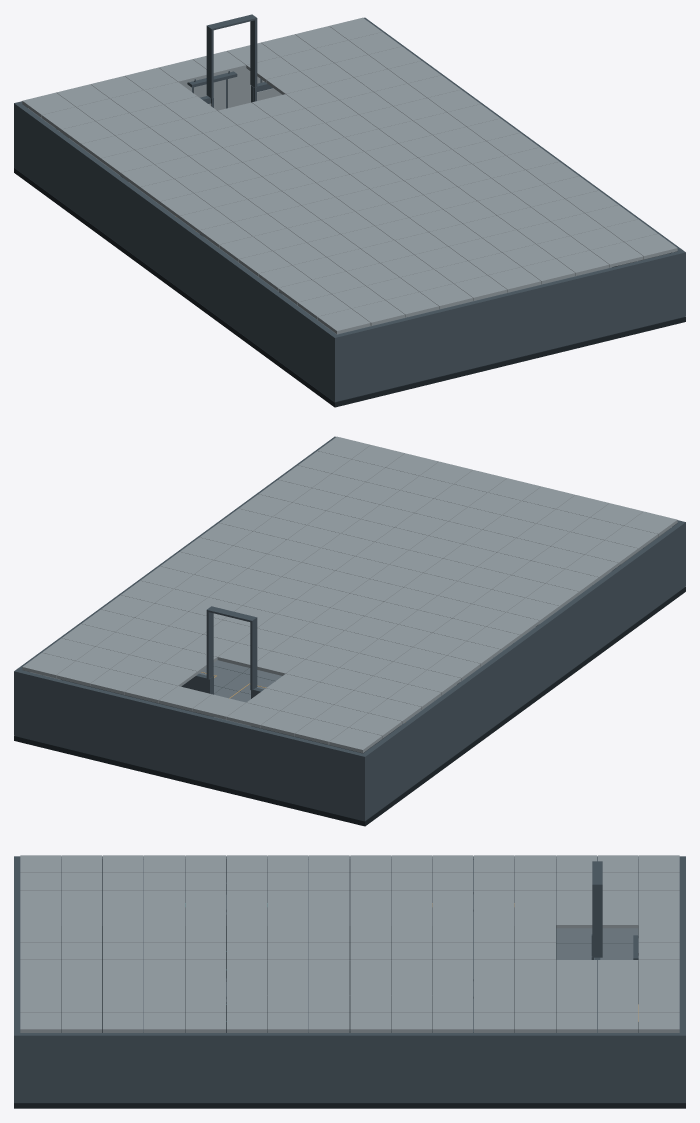
Rendered from relay.glb.
3 renders of one model, top to bottom at view 1: azimuth 30°, elevation 25°; view 2: azimuth 150°, elevation 25°; view 3: azimuth 270°, elevation 25°, orthographic. The views are drawn at different scales.
Visible parts, largest first — view 1: Relay_ceramic, Relay_structure, Relay_recess; view 2: Relay_ceramic, Relay_structure, Relay_recess, Relay_floor; view 3: Relay_ceramic, Relay_structure, Relay_recess, Relay_floor.
Part boxes in pixels (<box>): Relay_ceramic: <box>22,17,677,334</box>; Relay_structure: <box>14,14,685,401</box>; Relay_recess: <box>14,167,685,407</box>; Relay_ceramic: <box>22,436,677,753</box>; Relay_structure: <box>14,436,685,820</box>; Relay_recess: <box>14,586,685,826</box>; Relay_floor: <box>199,571,611,725</box>; Relay_ceramic: <box>20,855,679,1032</box>; Relay_structure: <box>14,856,685,1102</box>; Relay_recess: <box>14,926,685,1108</box>; Relay_floor: <box>556,928,638,959</box>.
Bounding box in the file's own units: 20.6 × 7.8 × 32.6.
